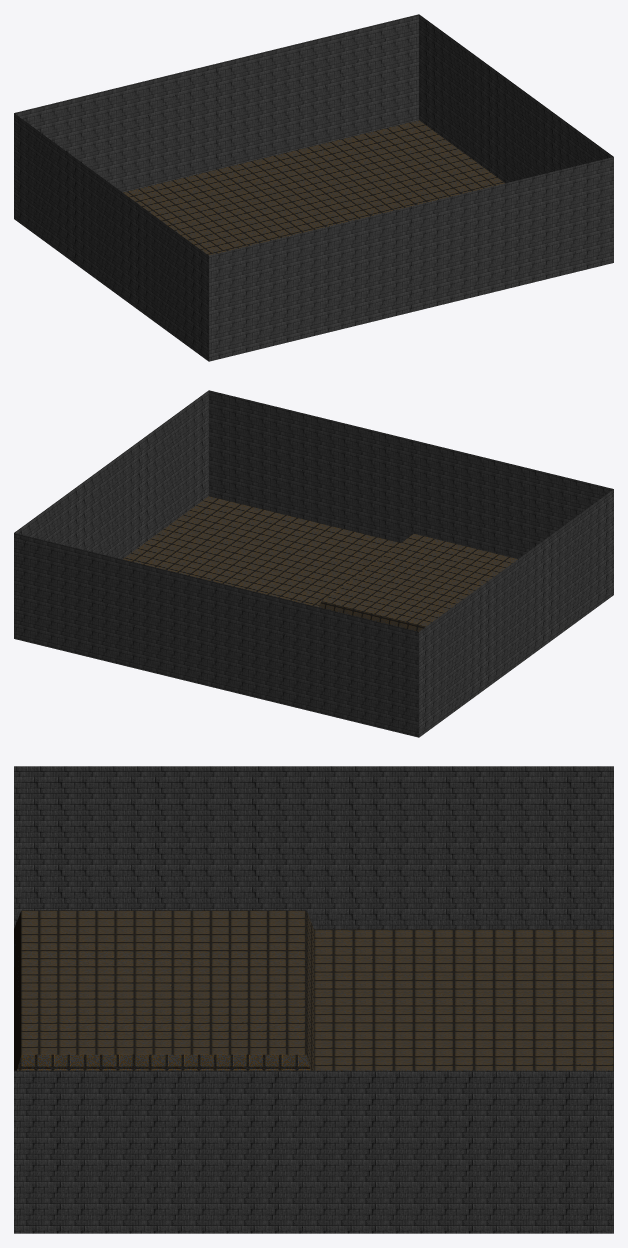
Rendered from actual test room.glb.
3 views of the same model, one above another, from view 1: azimuth 30°, elevation 25°; view 2: azimuth 150°, elevation 25°; view 3: azimuth 270°, elevation 25° (orthographic). The views are drawn at different scales.
Parts seen in each view (by area): view 1: Plane; view 2: Plane; view 3: Plane.
Boxes of the visible parts, bbox=[...] form: Plane: bbox=[14, 14, 613, 361]; Plane: bbox=[14, 390, 613, 737]; Plane: bbox=[14, 766, 613, 1233].
Size of the model in its own units: 24 by 6 by 20.
Materials: 2 (2 with a texture image).
